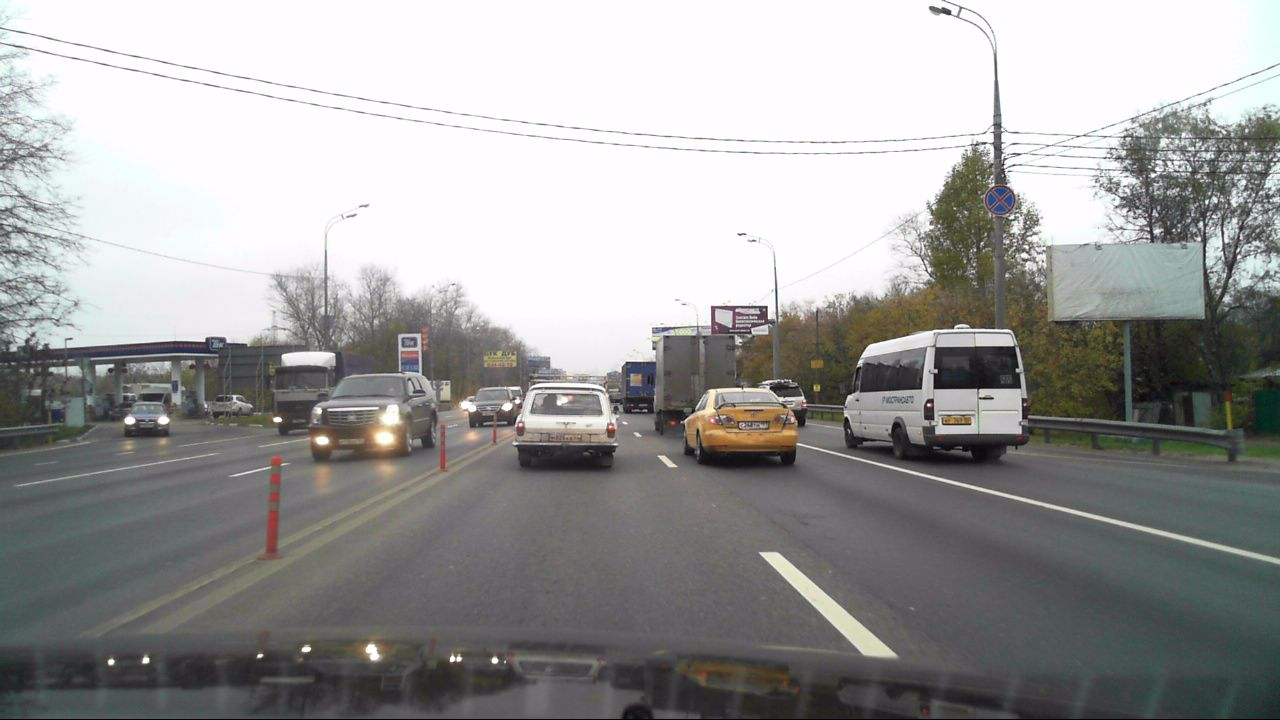No Parking: (984, 186, 1015, 215)
